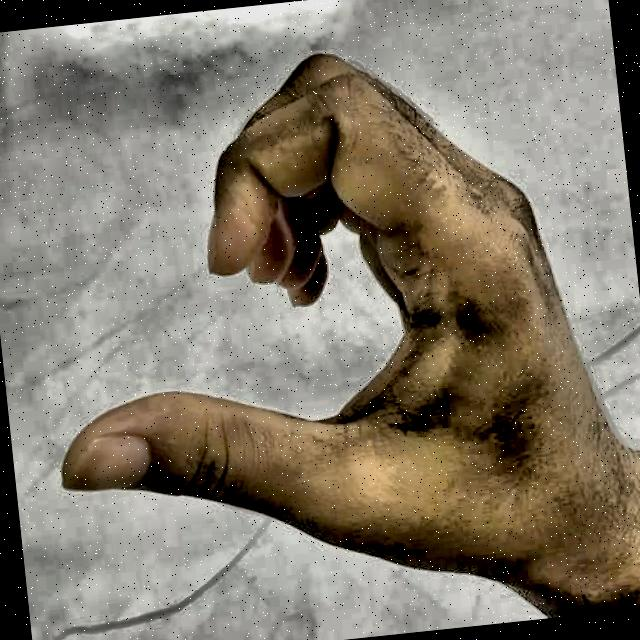Kha: (0, 0, 640, 630)
